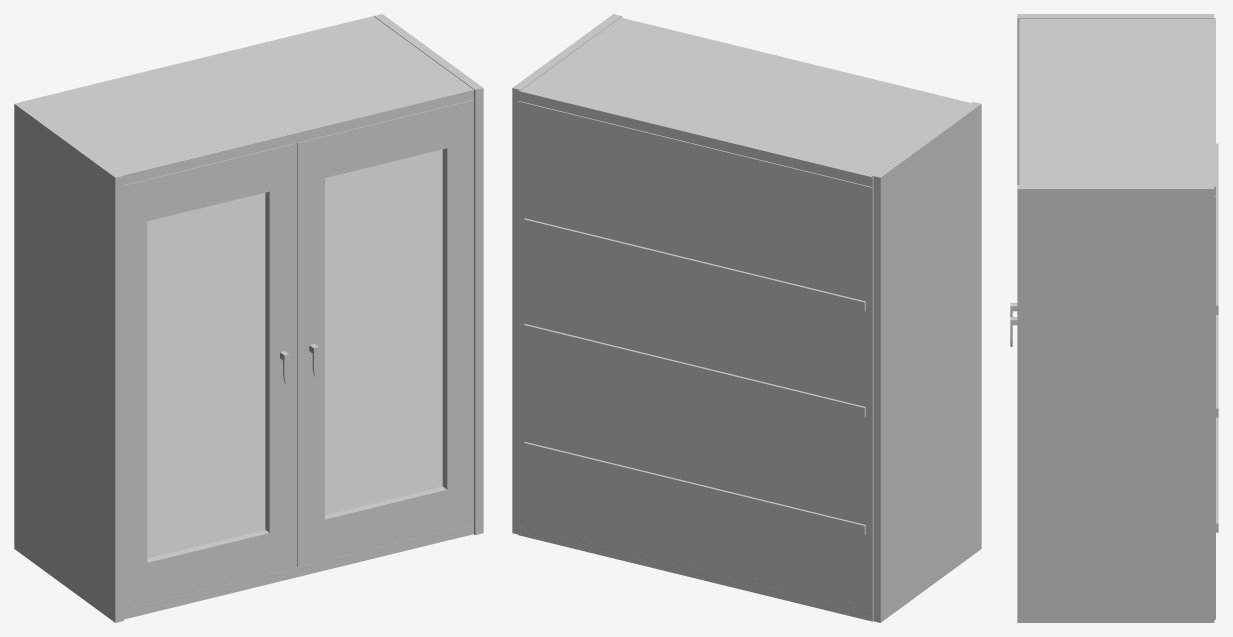
File: showcase.glb
3 views of the same model, side by side, from view 1: azimuth 30°, elevation 25°; view 2: azimuth 150°, elevation 25°; view 3: azimuth 270°, elevation 25° (orthographic). The views are drawn at different scales.
Parts seen in each view (by area): view 1: pCube142, showcase_mirror_4, showcase_mirror_3, pCube144, pCube173, pCube140, pCube201, pCube172; view 2: pCube141, pCube142, pCube144, pCube201, pCube145, pCube146, pCube147, pCube172; view 3: pCube201, pCube144, pCube142, pCube141, pCube145, pCube147, pCube146.
Boxes of the visible parts, bbox=[...] form: pCube142: bbox=[14, 102, 123, 622]; showcase_mirror_4: bbox=[147, 192, 265, 558]; showcase_mirror_3: bbox=[325, 149, 442, 515]; pCube144: bbox=[20, 15, 473, 184]; pCube173: bbox=[297, 100, 473, 566]; pCube140: bbox=[124, 143, 296, 609]; pCube201: bbox=[374, 14, 483, 534]; pCube172: bbox=[124, 524, 473, 619]; pCube141: bbox=[518, 101, 873, 611]; pCube142: bbox=[872, 102, 981, 622]; pCube144: bbox=[518, 17, 970, 187]; pCube201: bbox=[512, 14, 621, 534]; pCube145: bbox=[523, 218, 865, 311]; pCube146: bbox=[523, 324, 865, 417]; pCube147: bbox=[523, 442, 865, 535]; pCube172: bbox=[518, 525, 873, 621]; pCube201: bbox=[1017, 185, 1214, 622]; pCube144: bbox=[1019, 18, 1215, 195]; pCube142: bbox=[1017, 14, 1214, 184]; pCube141: bbox=[1214, 196, 1215, 612]; pCube145: bbox=[1216, 143, 1218, 314]; pCube147: bbox=[1216, 417, 1218, 532]; pCube146: bbox=[1216, 315, 1218, 417].
Size of the model in its own units: 2.38 by 2.75 by 1.2.
Materials: 2 (1 with a texture image).
